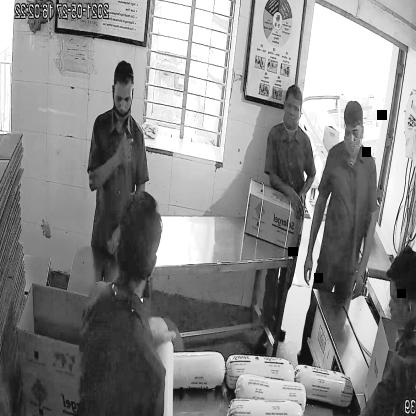no_goggles: (108, 87, 137, 111), (340, 120, 367, 145)
